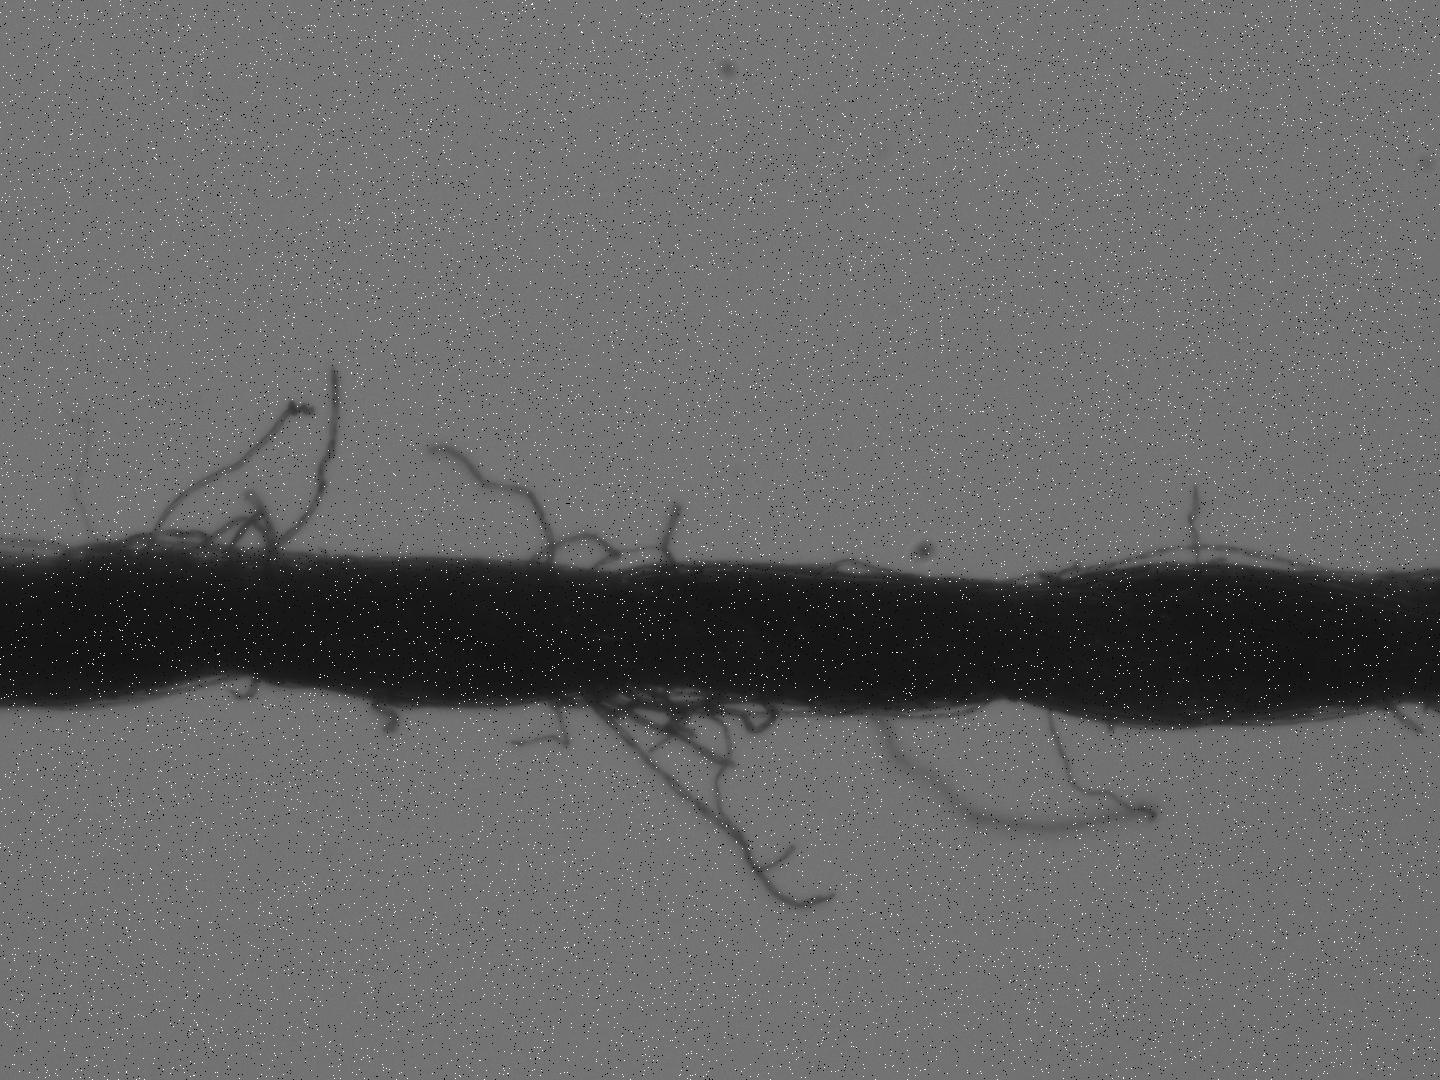loop_fiber: (590, 690, 778, 737), (1073, 546, 1325, 577), (190, 515, 278, 564), (88, 530, 204, 565), (857, 699, 996, 725), (810, 555, 920, 582), (584, 542, 681, 573)
protruding_fiber: (136, 398, 313, 555), (269, 368, 345, 559), (431, 447, 552, 562), (1186, 478, 1205, 571), (228, 674, 264, 703)
